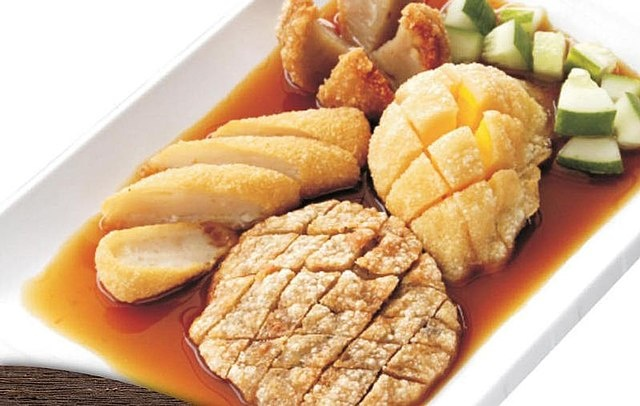pempek: (98, 1, 551, 406)
